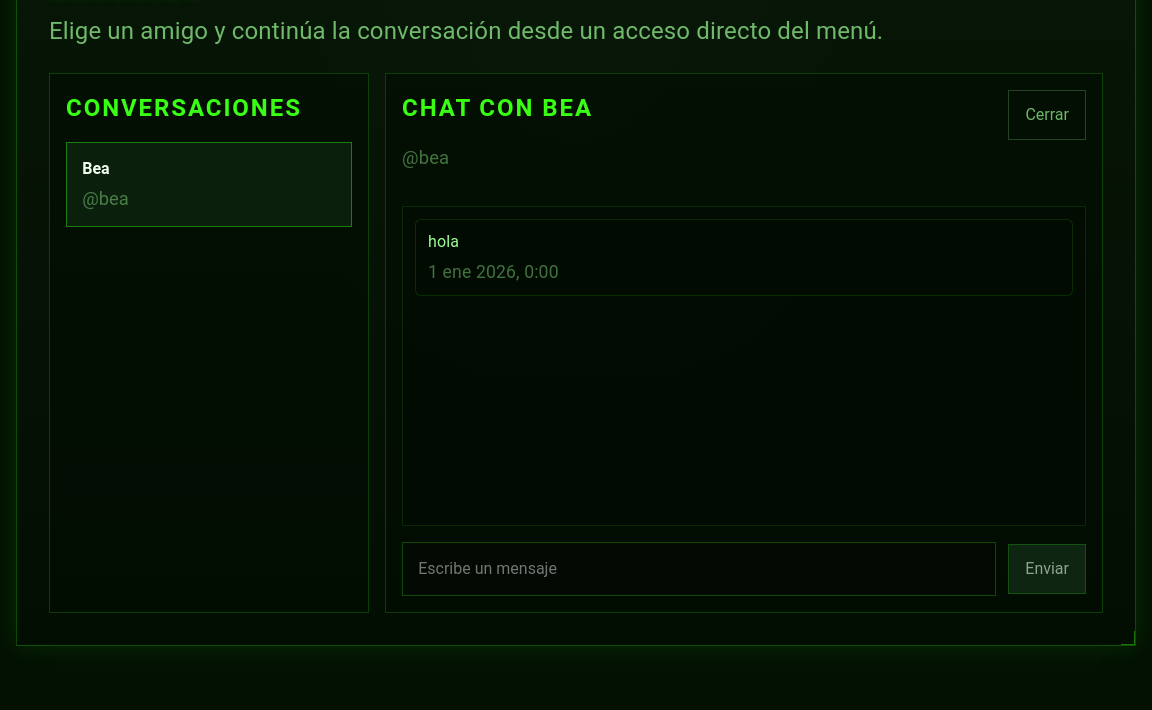
MessagesPage › loads a chat from the route and sends a message through the existing REST endpoint
(page scrolled)
Expected: the heading "Chat con Bea" is shown, [402, 90, 593, 126]
Expected: the text "hola" is shown, [428, 232, 459, 251]
Type "vamos?" into the field with placeholder "Escribe un mensaje" at (699, 569), box [402, 542, 996, 596]
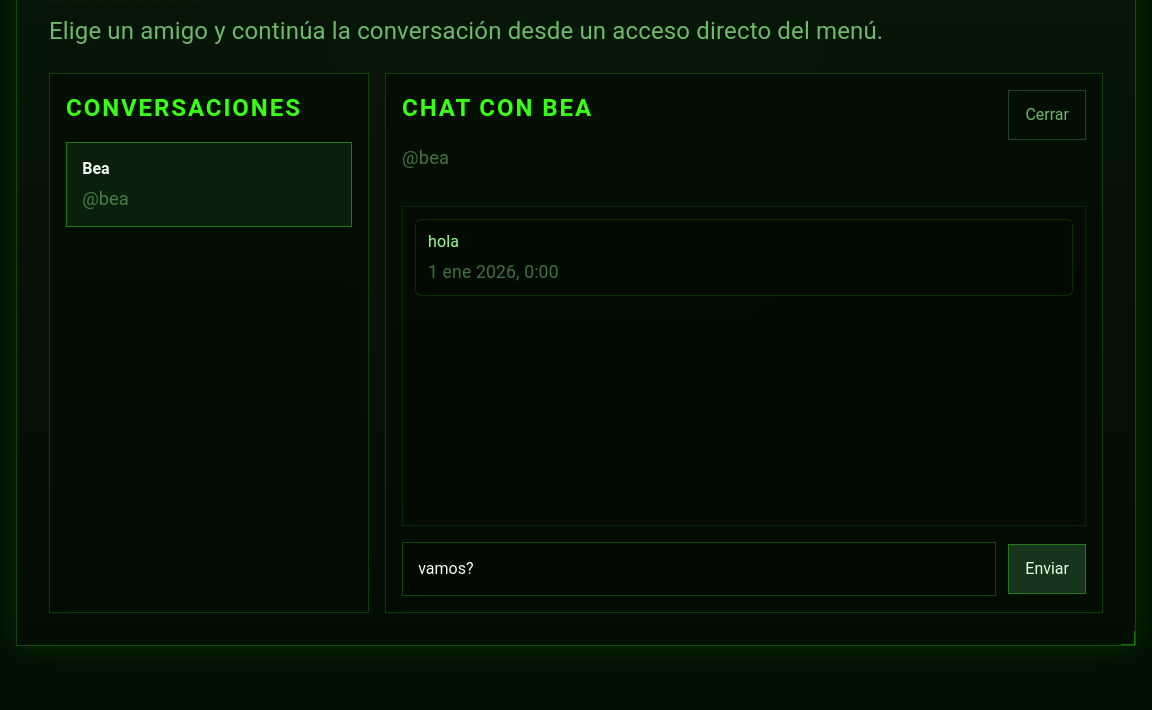
Click the button "Enviar" at (1047, 569), box [1008, 544, 1086, 594]
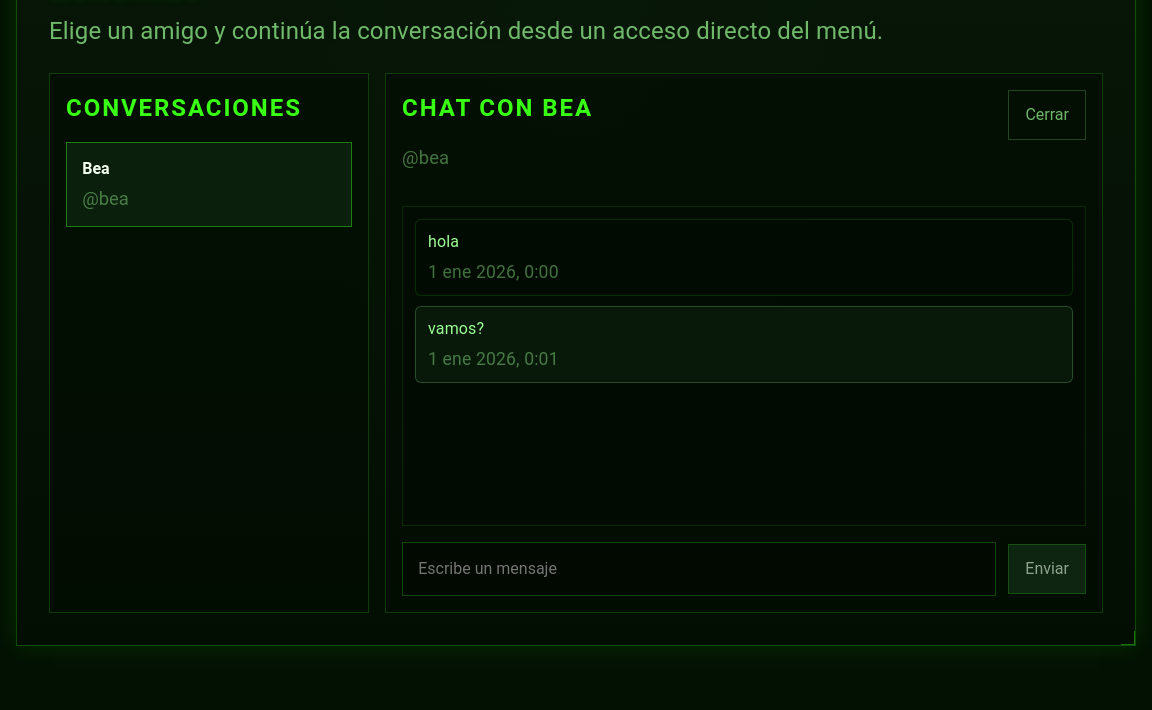
Expected: the text "vamos?" is shown, [428, 319, 484, 338]
